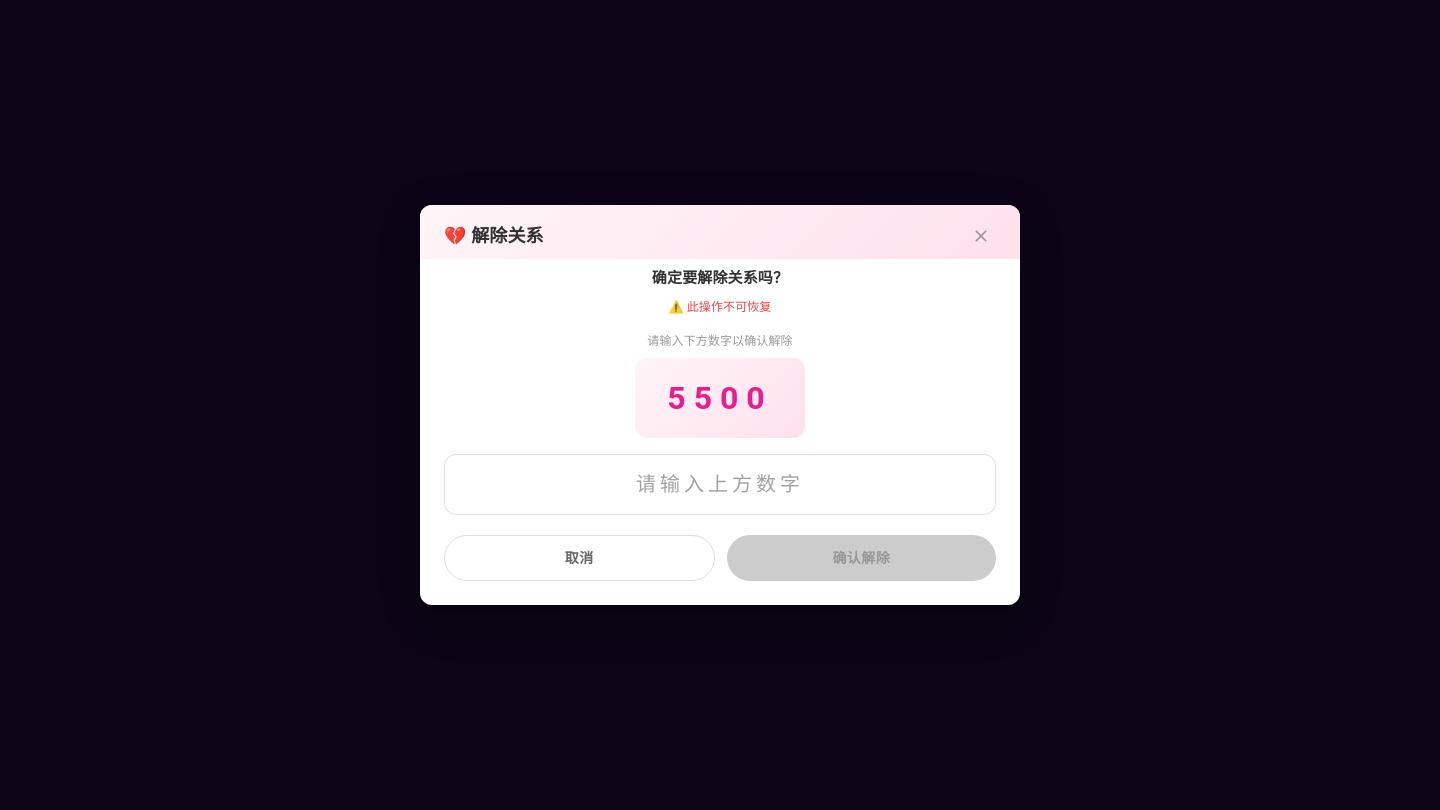
Test: ConfirmUnbindModal › confirm button › should be enabled when input matches code
Type "5500" into the field with placeholder "请输入上方数字".
click(720, 484); type("5500")  # box [444,454,996,515]
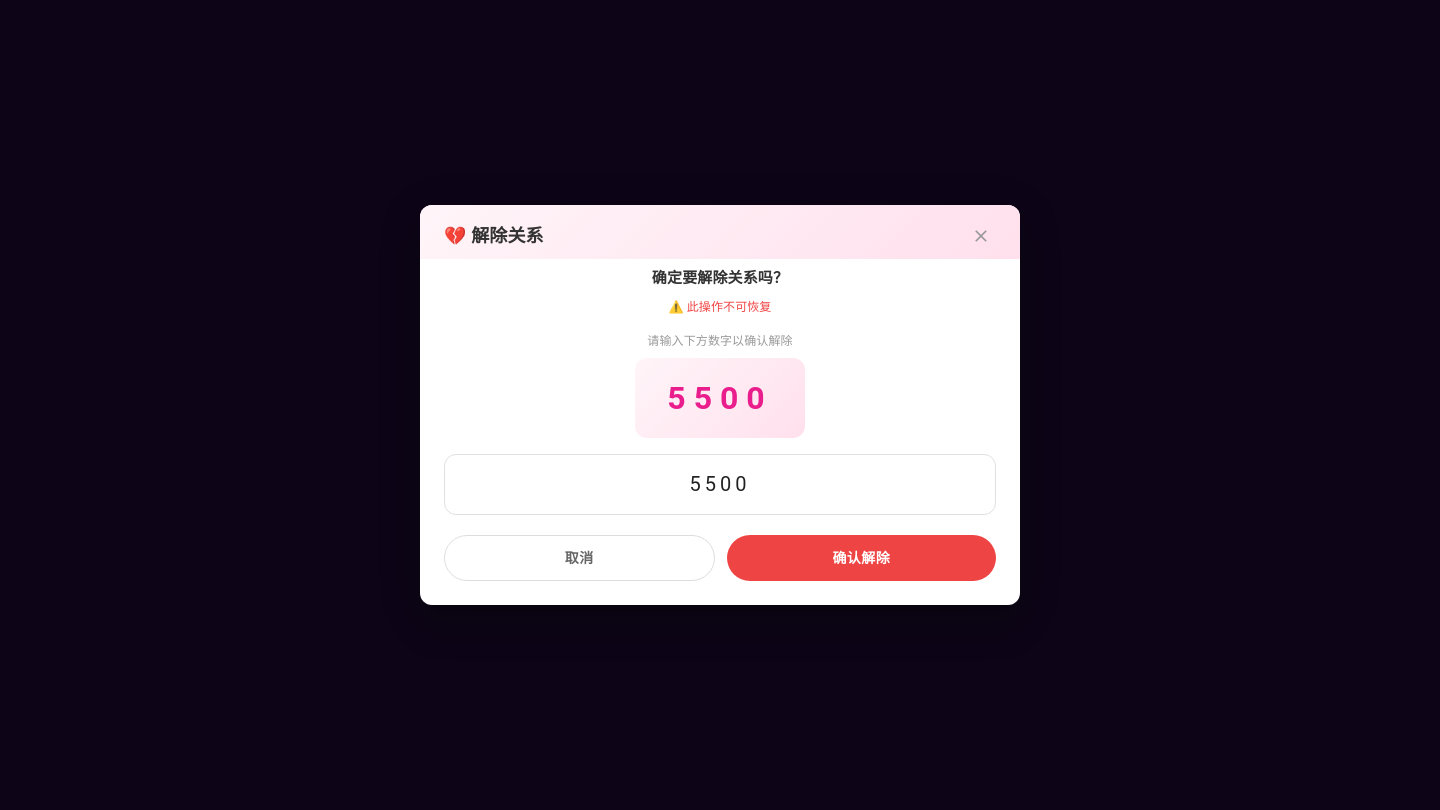
Expected: the button "确认解除" is enabled, [726,535,996,581]
